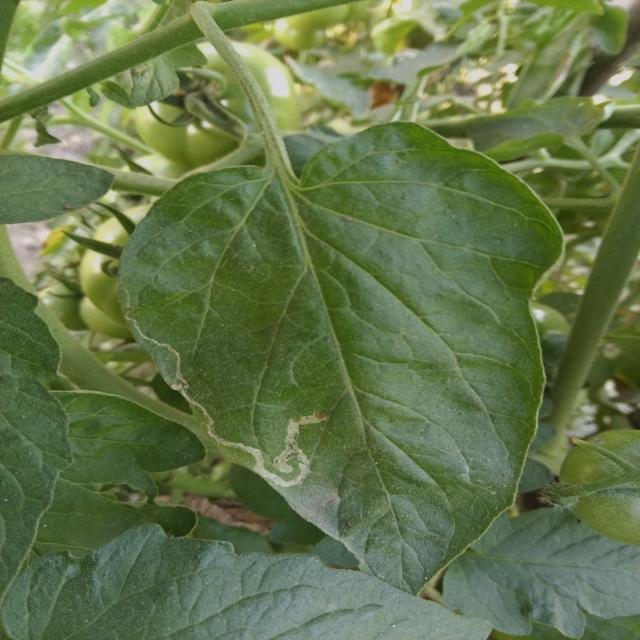Tuta absoluta: (208, 410, 333, 494)
